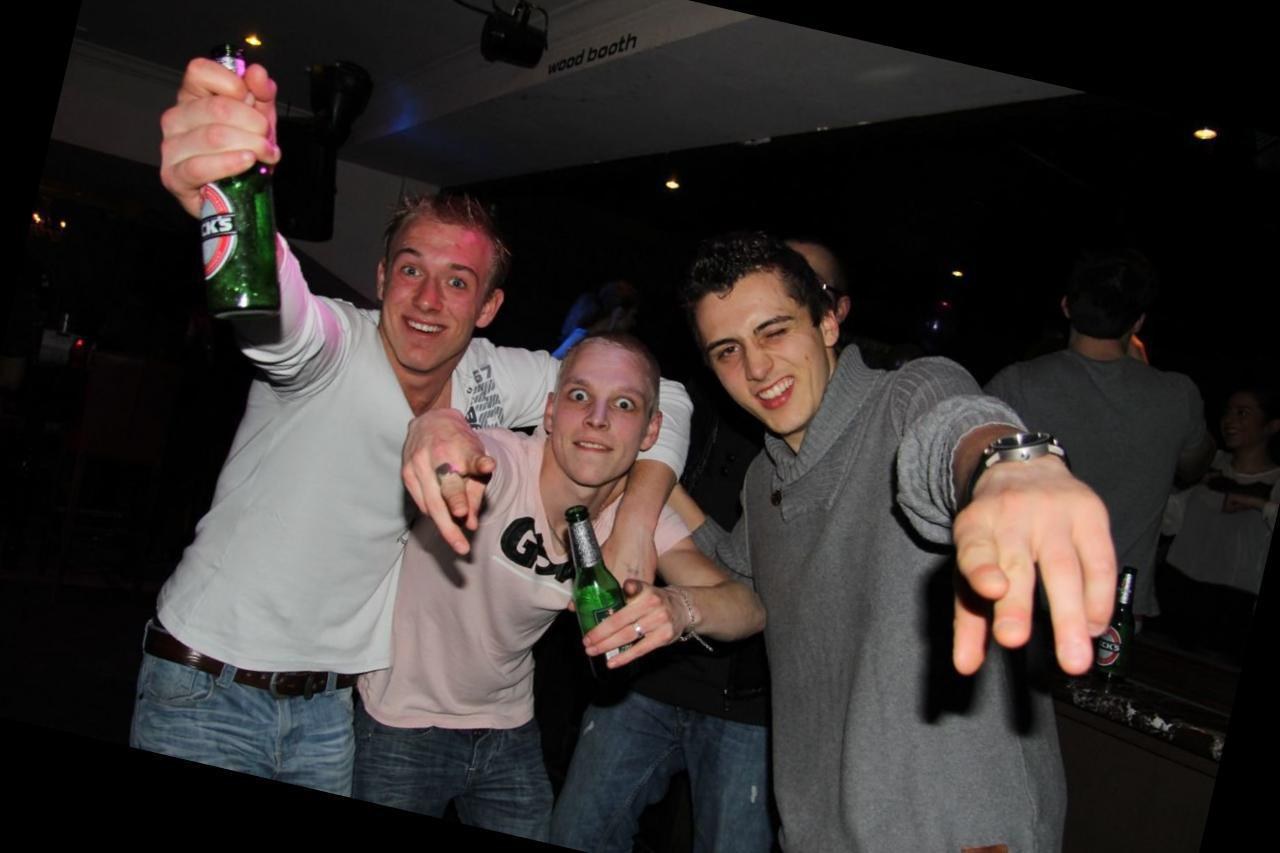Drunk: (693, 292, 828, 429), (387, 226, 491, 368), (557, 356, 651, 480)
